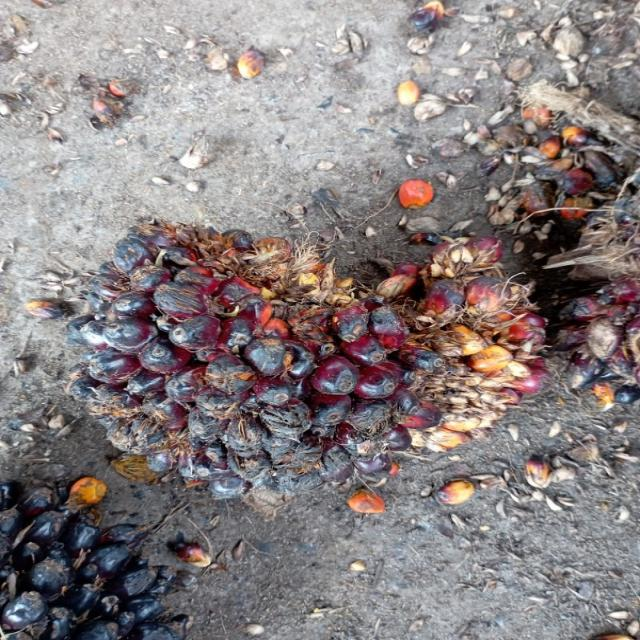fraksi 1: (49, 204, 550, 503)
